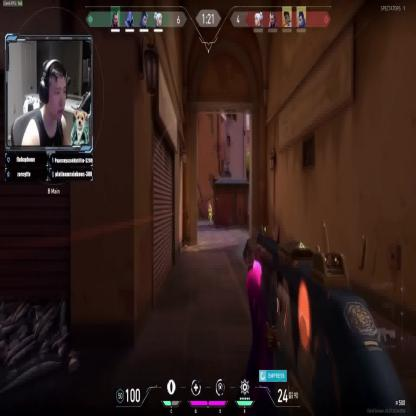enemy: (208, 204, 212, 221)
enemy_head: (209, 204, 210, 208)
